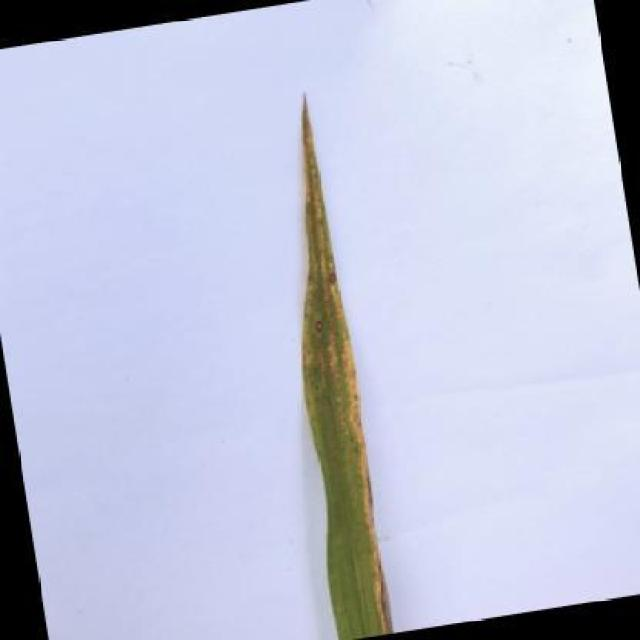Rice False Smut: (247, 89, 396, 640)
